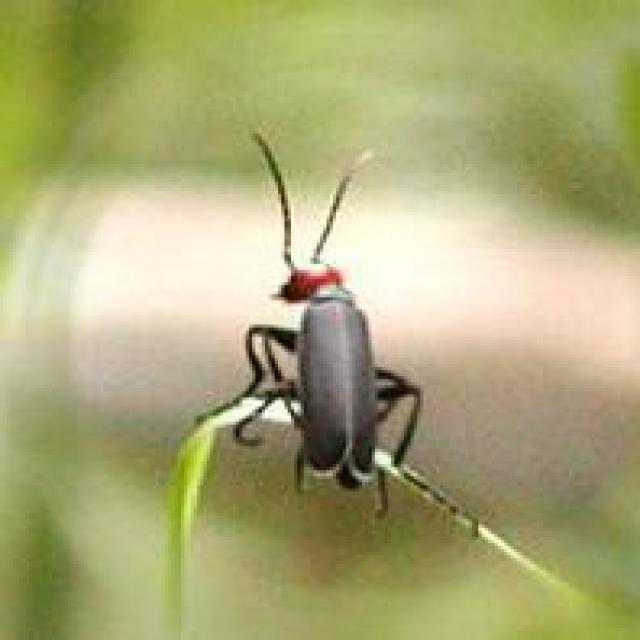BlisterBeetle-Adult-: (209, 115, 437, 528)
